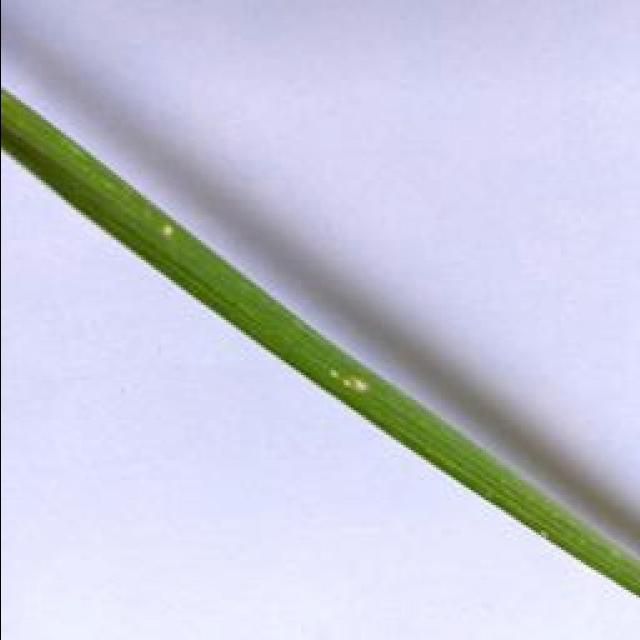Unhealthy: (325, 364, 366, 394), (158, 219, 177, 240)
